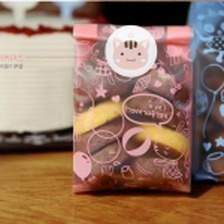snack: (65, 16, 200, 200), (179, 0, 224, 188)
